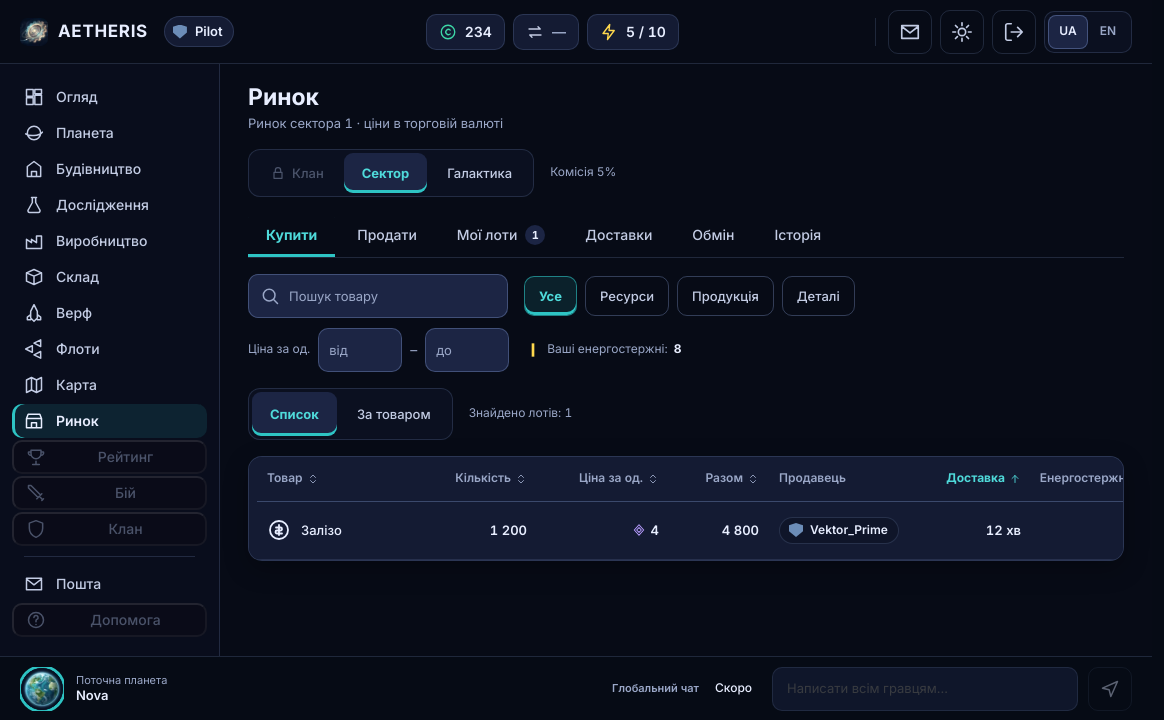
Test: the tab Buy › asks the server for the items that match the search and tells when nothing is left
Check: the table named "Лоти для купівлі" is shown, box [257,457,1124,560]
Type "мідь" into the field labelled "Пошук товару" at (378, 296), box [248,274,508,318]
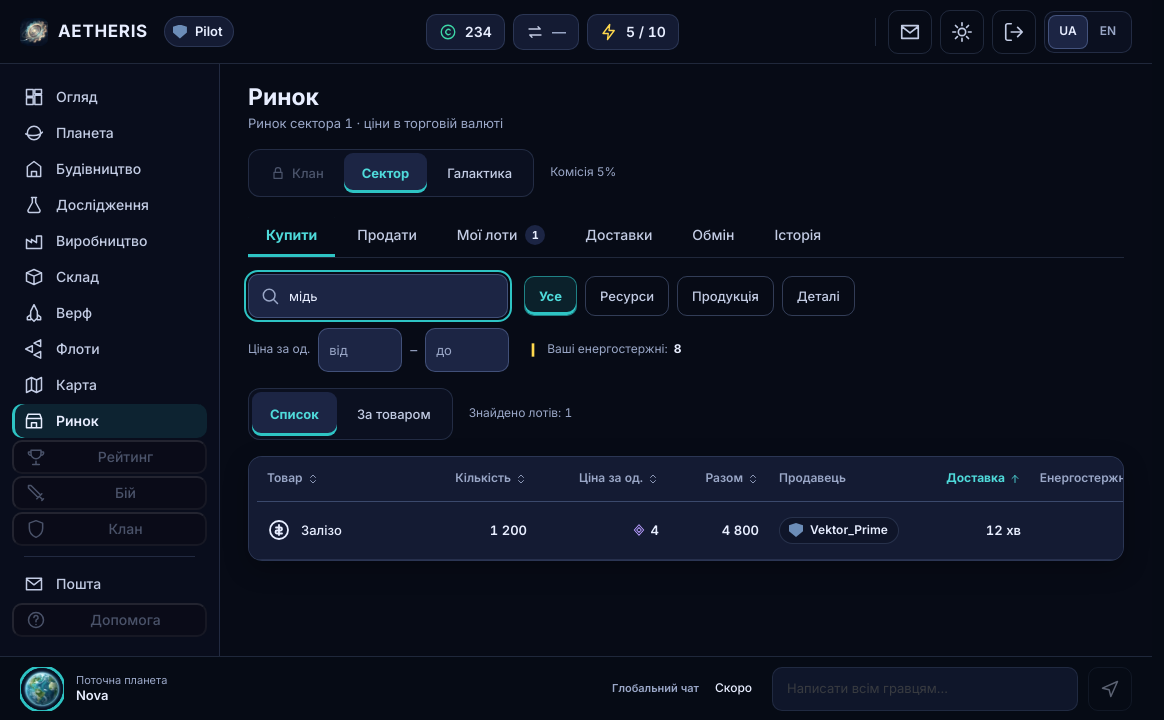
Replace the text in the field named "Пошук товару" with "такого немає" at (378, 296), box [248,274,508,318]
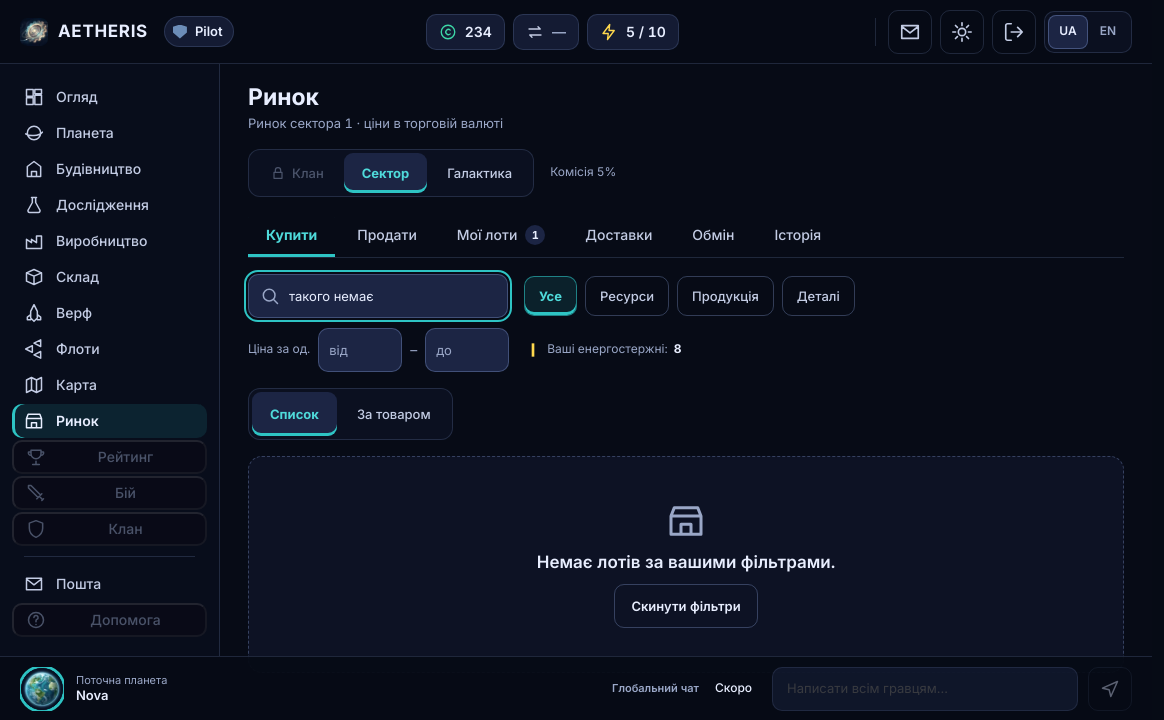
Check: the heading "Немає лотів за вашими фільтрами." is shown, box [537,551,835,574]
Click the button "Скинути фільтри" at (686, 606), box [614,584,758,628]
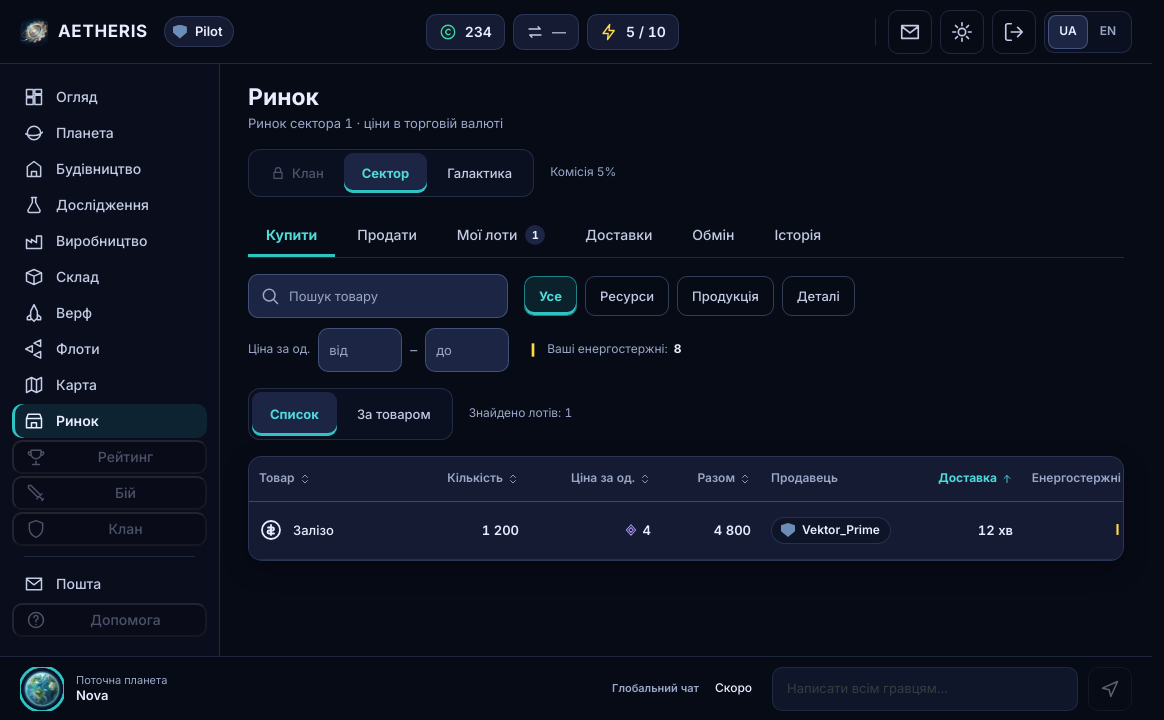
Check: the table named "Лоти для купівлі" is shown, box [249,457,1124,560]
